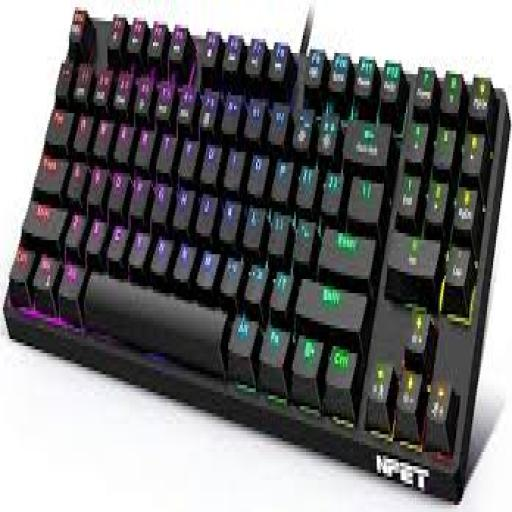keyboard: (3, 7, 511, 498)
